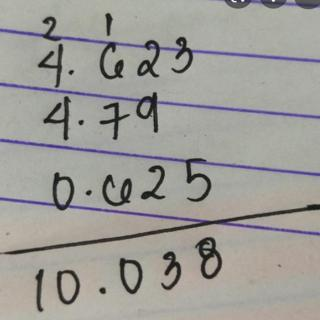.: (65, 62, 80, 77), (75, 114, 89, 129), (95, 284, 109, 298), (81, 184, 94, 199)
0: (117, 257, 144, 293), (51, 172, 76, 210), (56, 268, 81, 305)
1: (34, 267, 45, 314), (102, 10, 114, 36)
2: (137, 163, 167, 204), (134, 40, 162, 78), (41, 15, 62, 40)
3: (169, 35, 196, 75), (157, 251, 181, 291)
4: (41, 95, 74, 142), (36, 45, 67, 89)
5: (184, 156, 211, 202)
6: (103, 171, 133, 209), (102, 38, 123, 80)
7: (99, 102, 129, 144)
8: (197, 237, 222, 280)
9: (134, 91, 159, 136)
